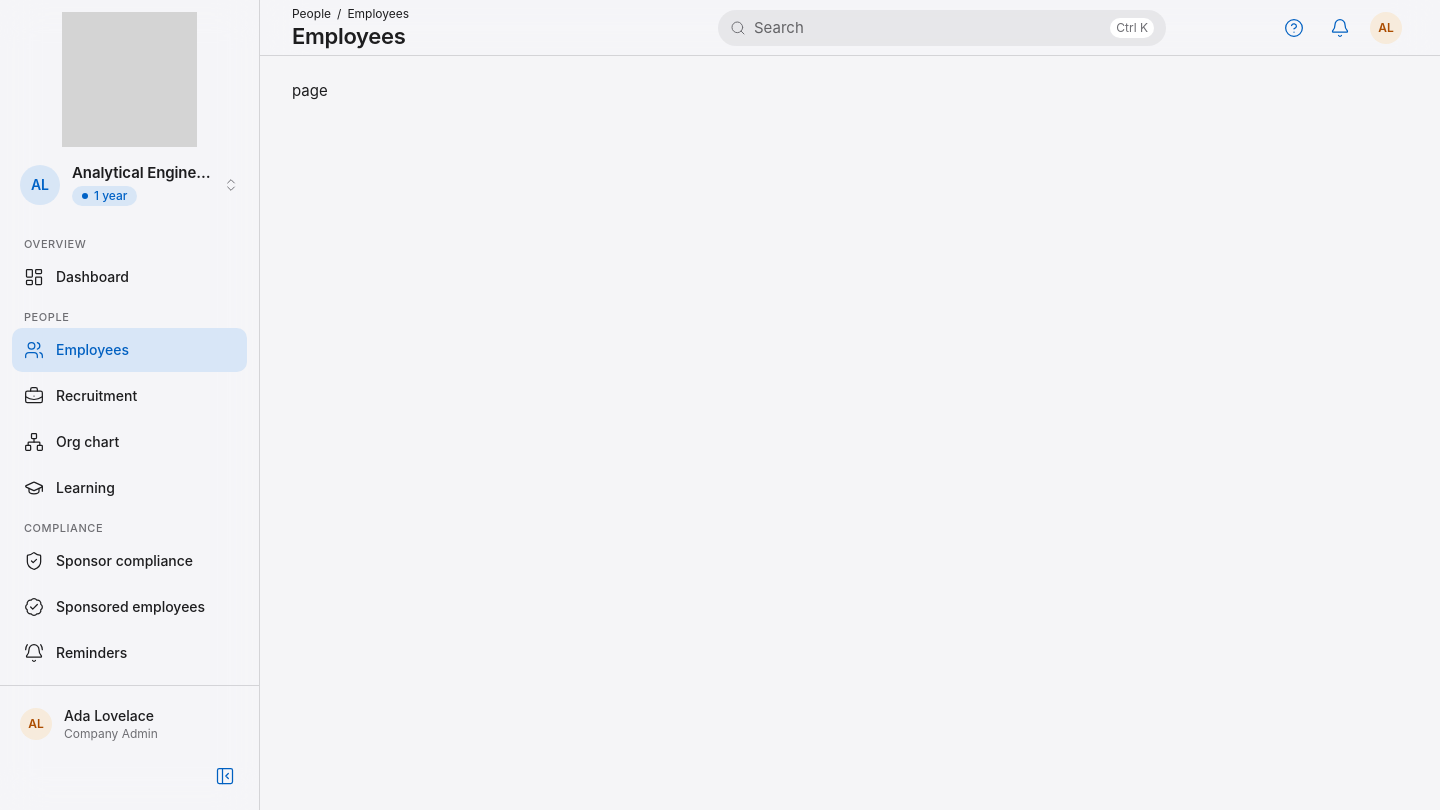
Test: collapsing the sidebar › the button toggles it, remembers it, and says what it will do
Click the button named "Collapse sidebar" at (225, 776), box [203,754,247,798]
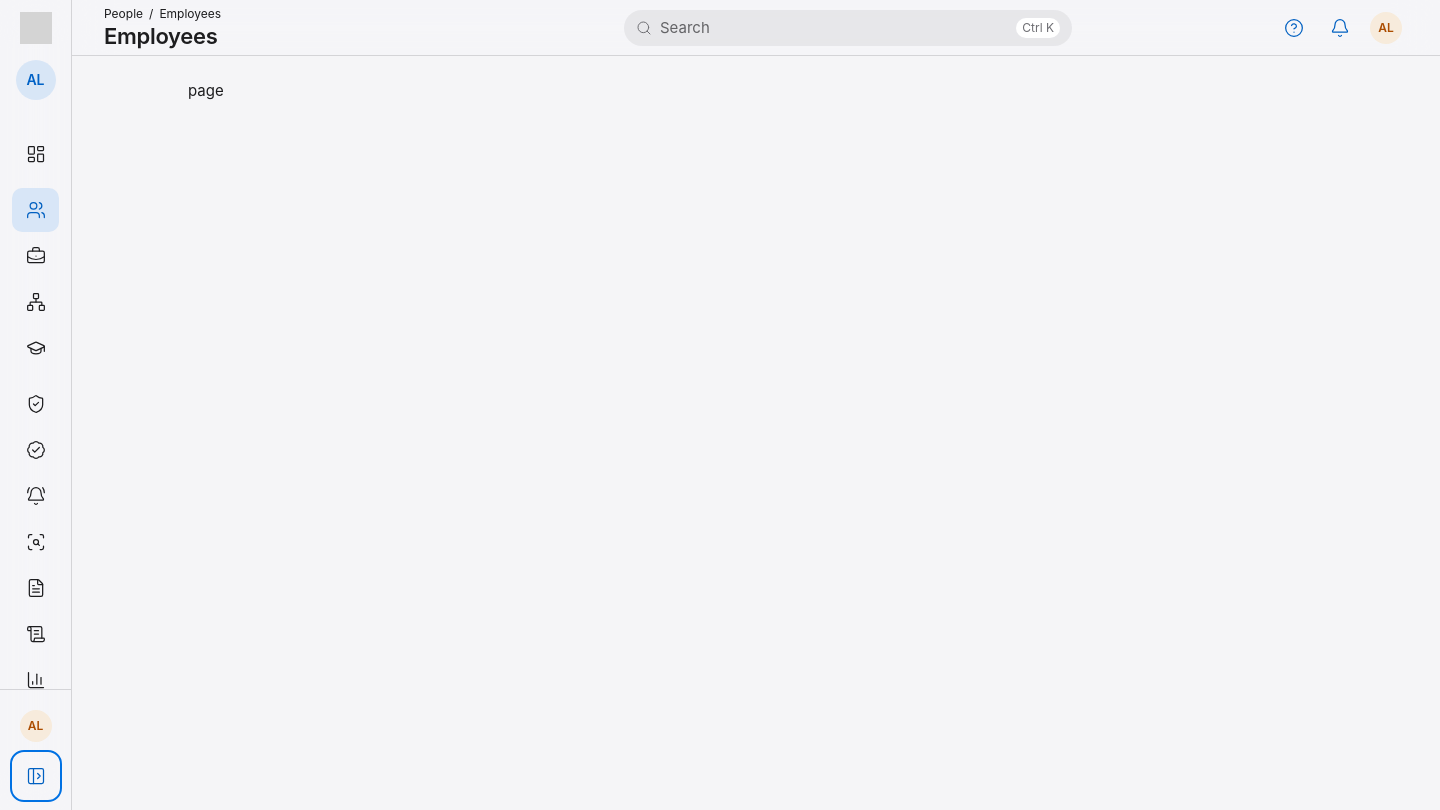
Expected: the element that starts with "Skip to content" has attribute data-collapsed="true"
Click the button named "Expand sidebar" at (36, 776), box [14,754,58,798]
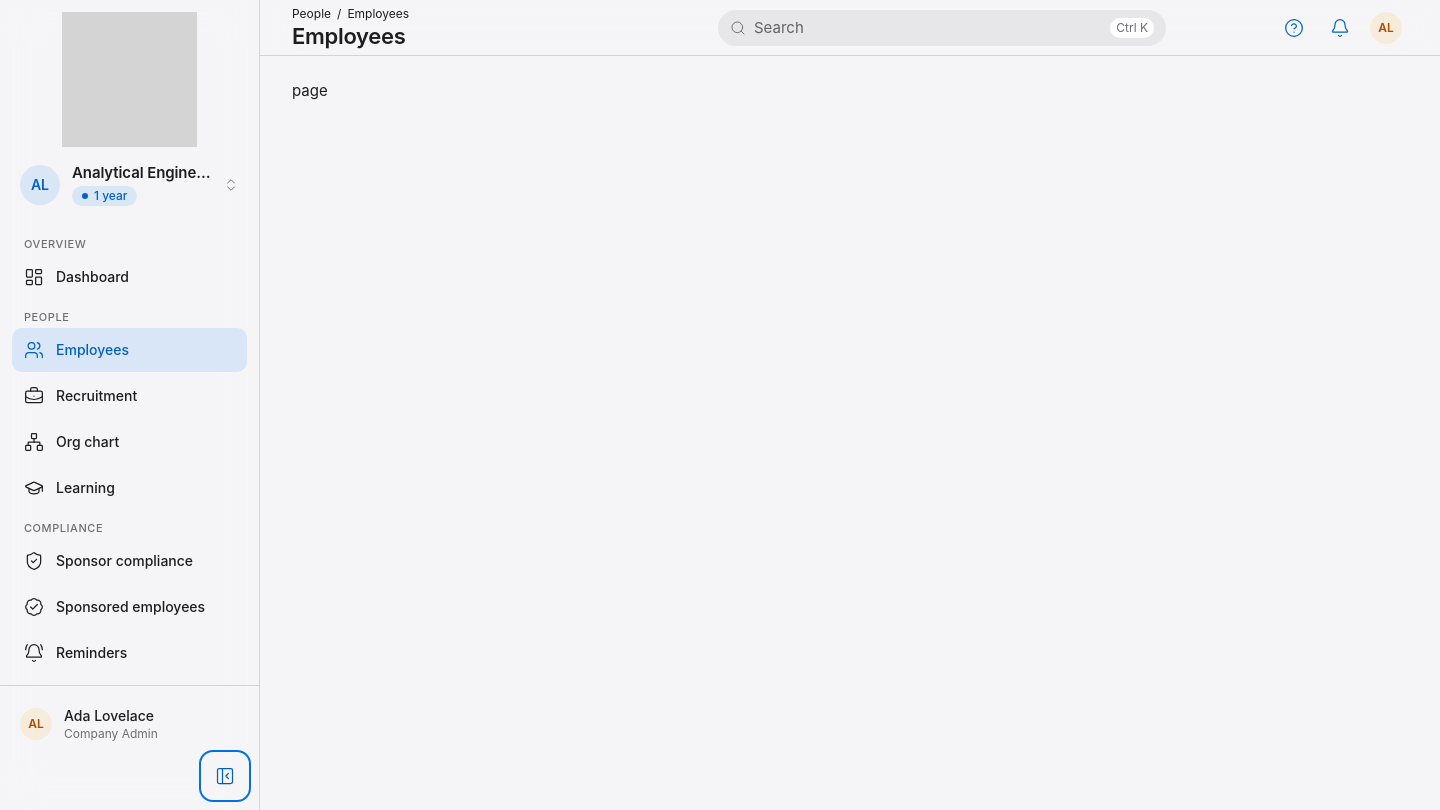
Expected: the element that starts with "Skip to content" has attribute data-collapsed="false"
